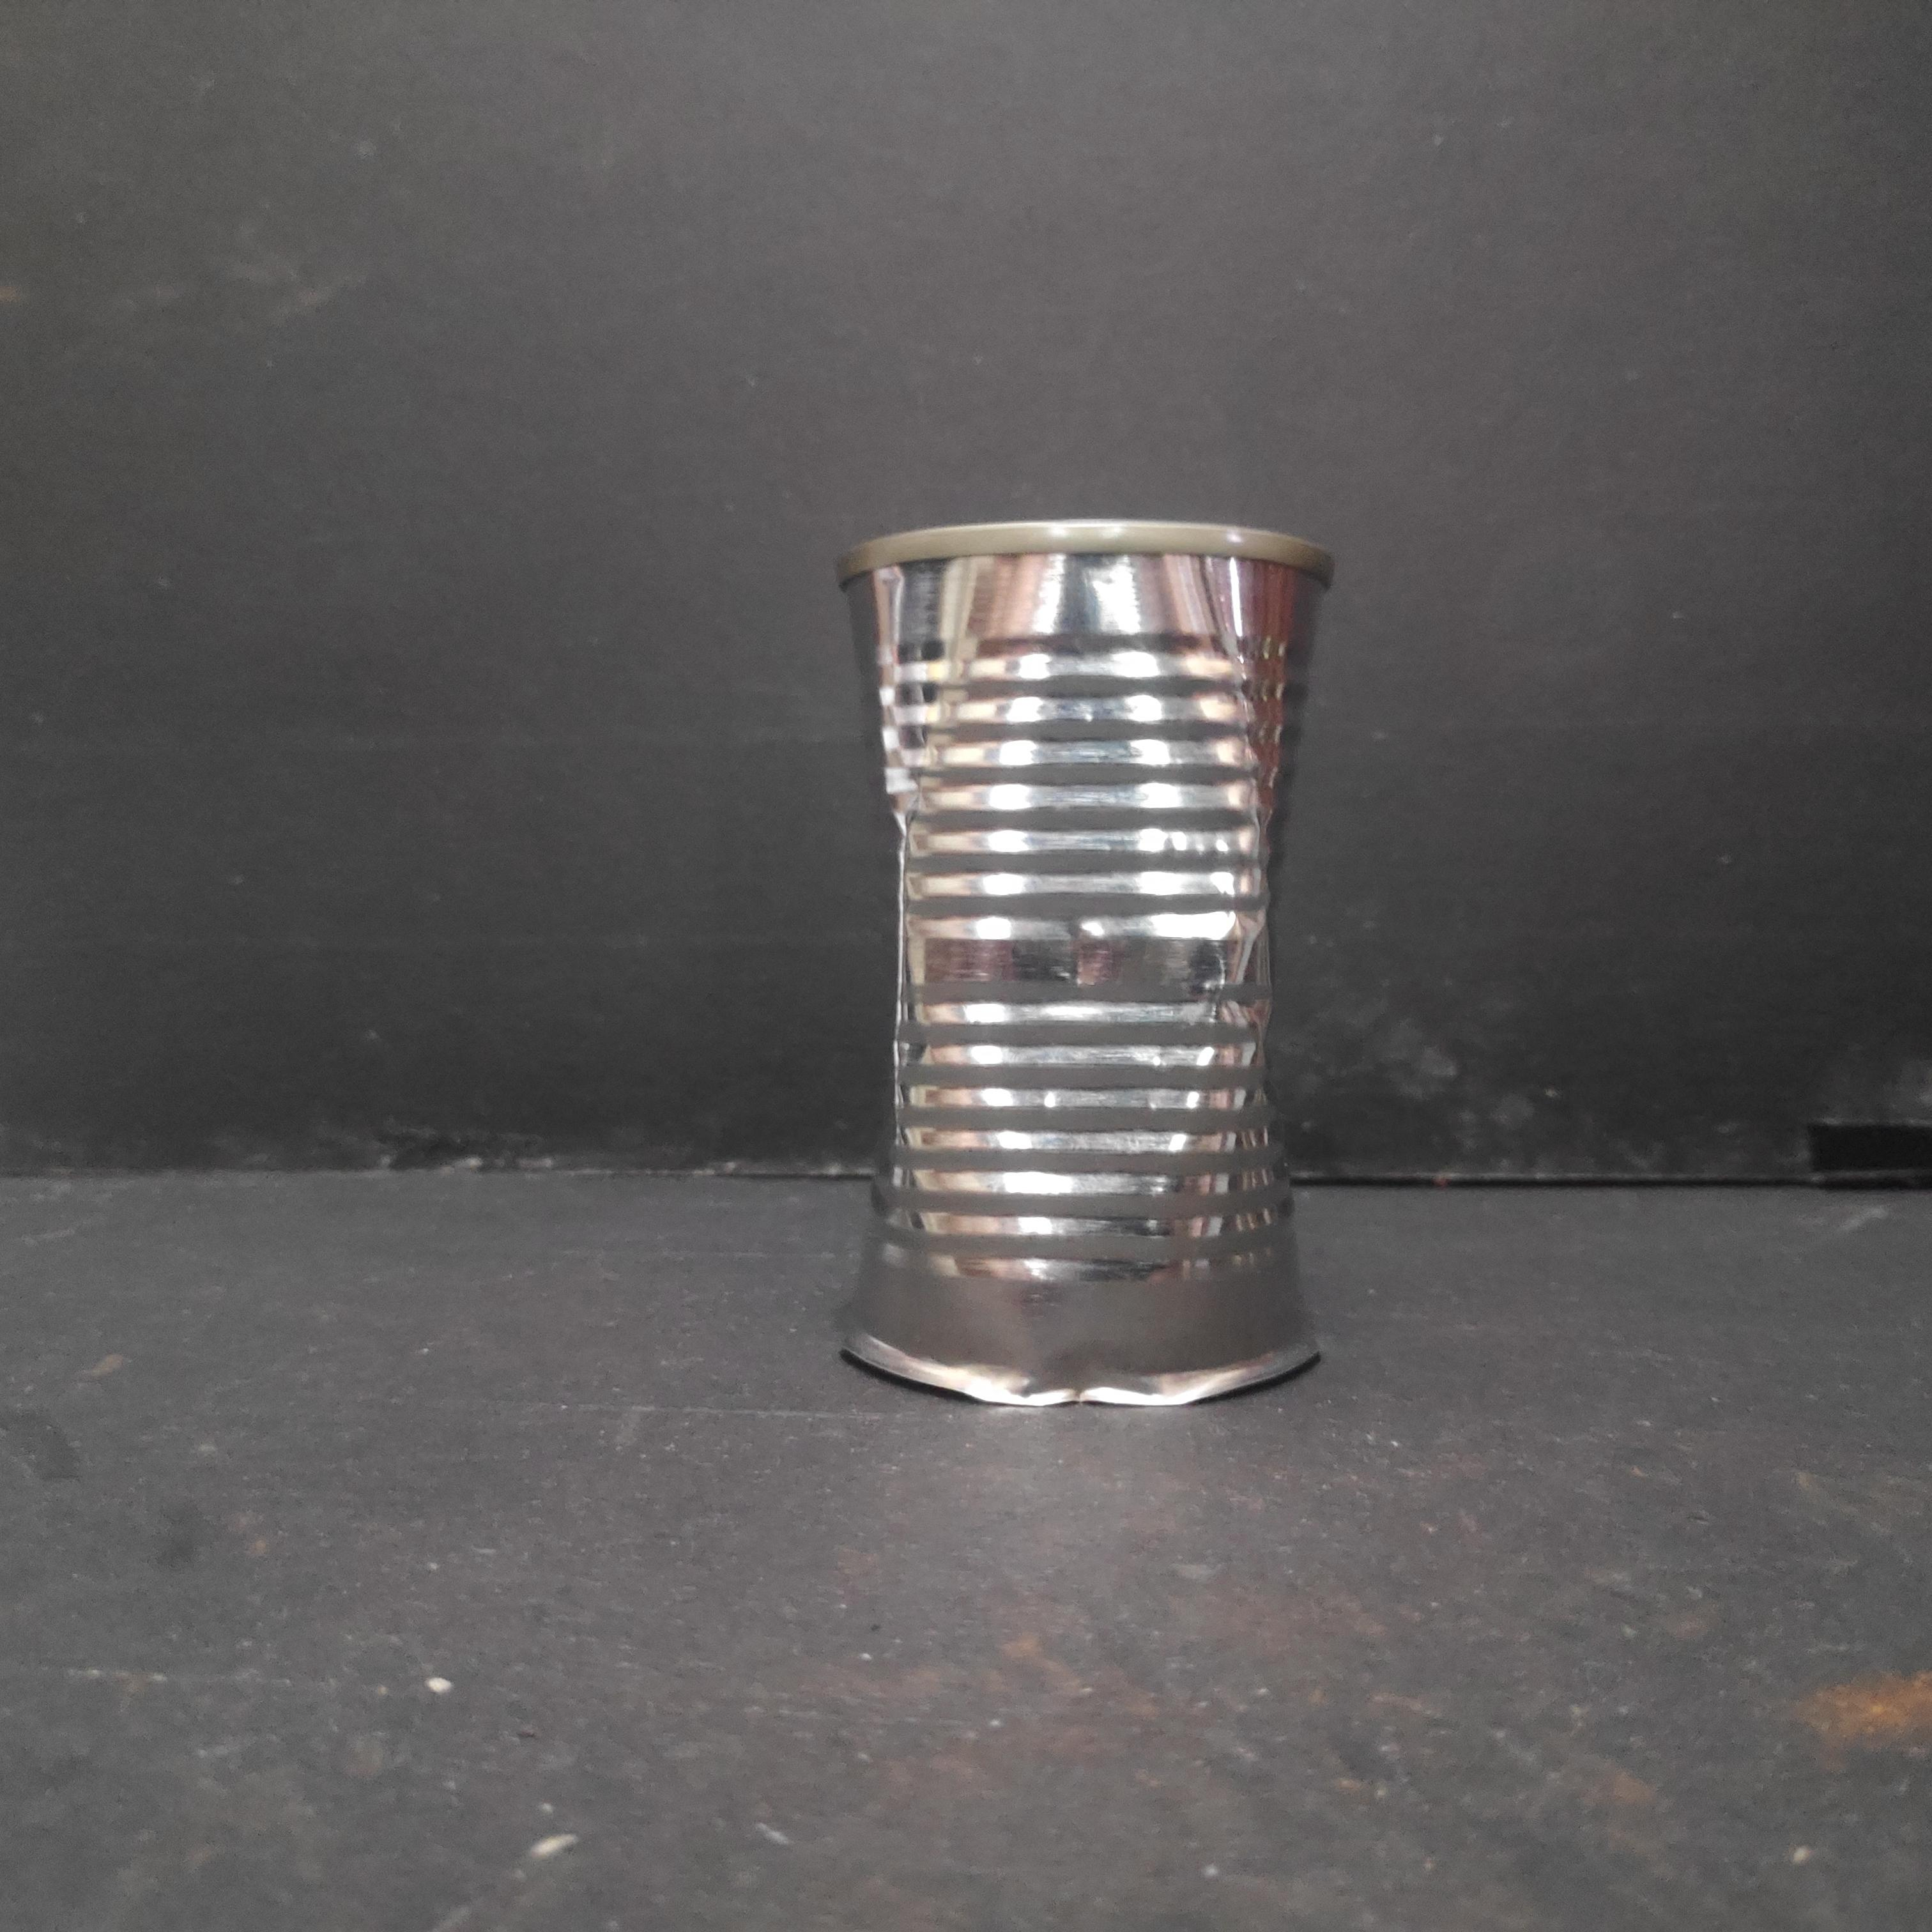Minor Defect: (832, 509, 1342, 1414)
